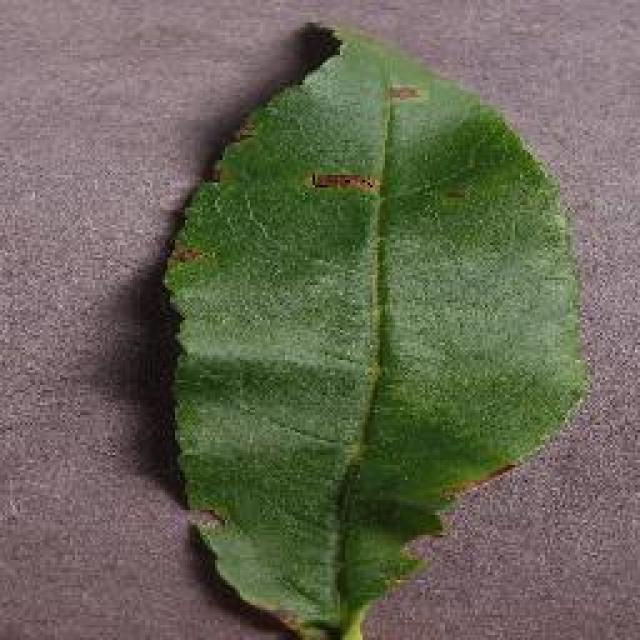Peach_Bacterial_Spot: (240, 39, 488, 288)
